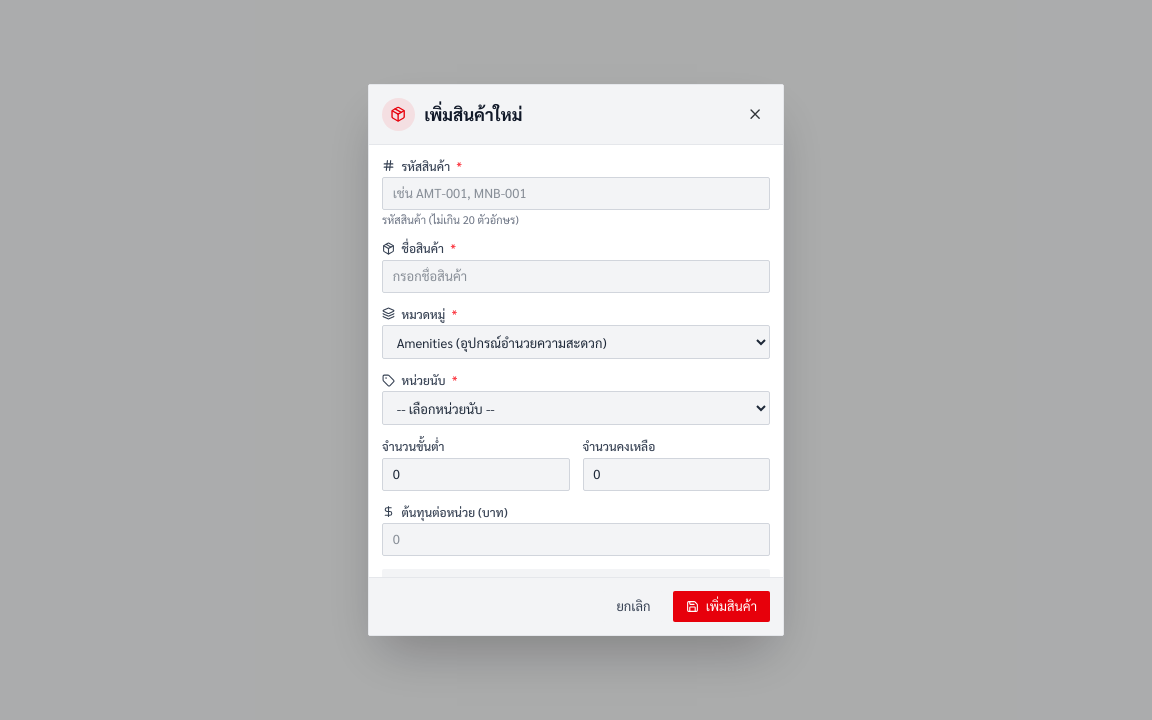
Scenario: InventoryItemForm Component › Form Validation › shows error when min stock is negative
The width and height of the screenshot is (1152, 720).
Type "TEST-001" into the field with placeholder "เช่น AMT-001, MNB-001". click: (576, 194)
box: top-left (382, 177), bottom-right (770, 210)
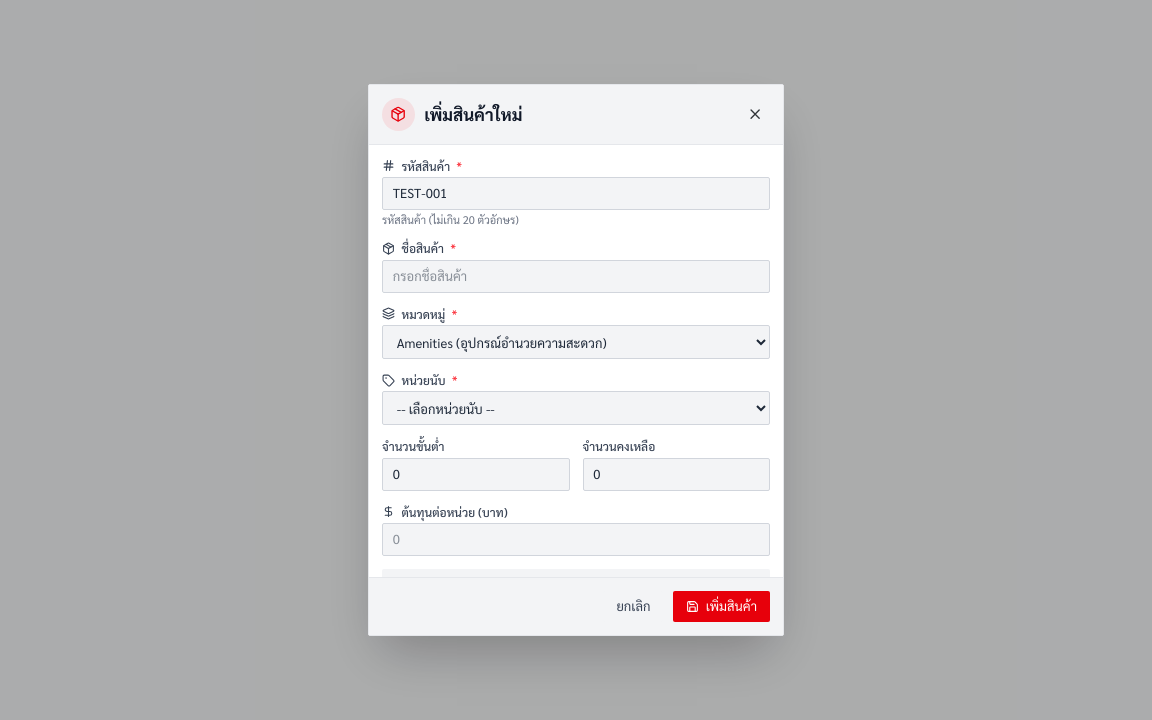
Type "Test Item" into the field with placeholder "กรอกชื่อสินค้า". click: (576, 276)
box: top-left (382, 260), bottom-right (770, 293)
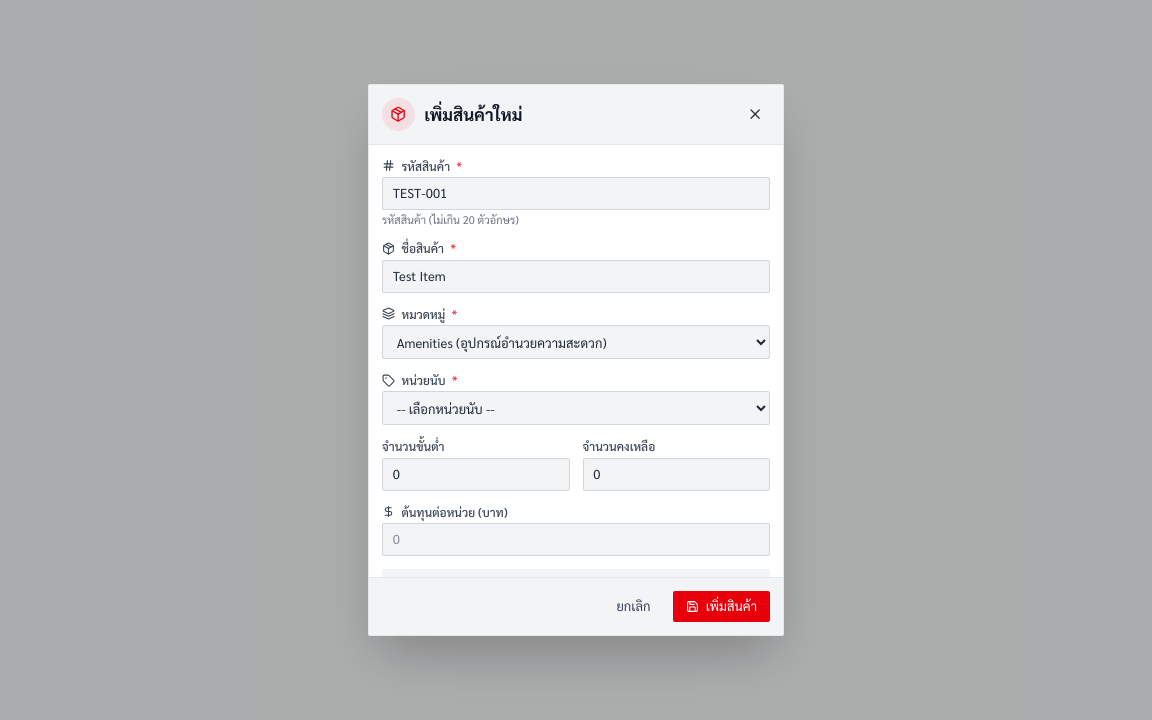
Select "ชิ้น" in the dropdown named "unit" below "หน่วยนับ". click: (576, 408)
box: top-left (382, 391), bottom-right (770, 425)
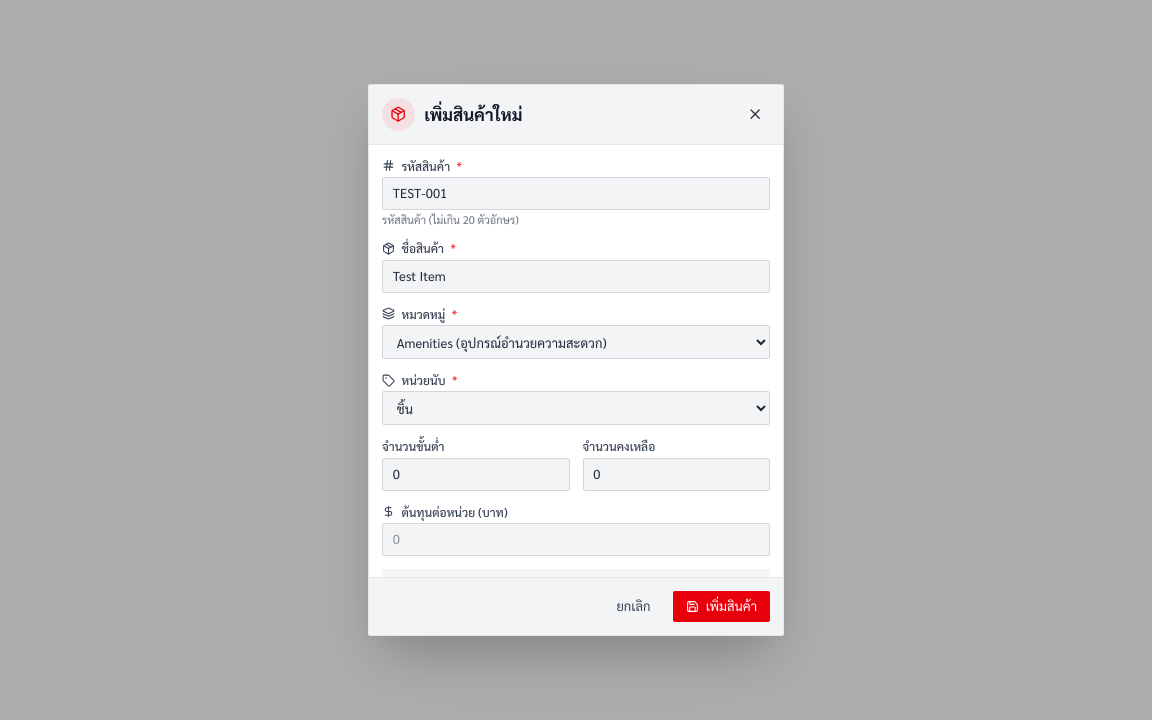
Type "-10" into the number field named "minStock" below "จำนวนขั้นต่ำ". click: (476, 474)
box: top-left (382, 458), bottom-right (570, 491)
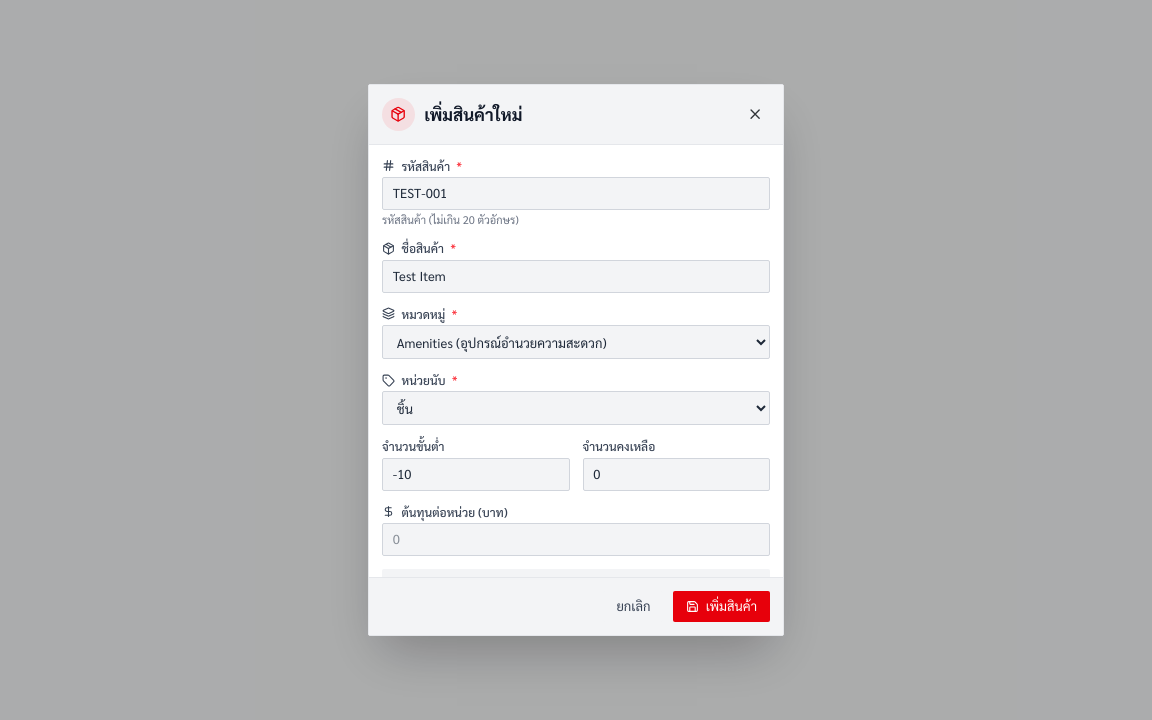
Submit the form, box top-left (369, 145), bottom-right (783, 635)
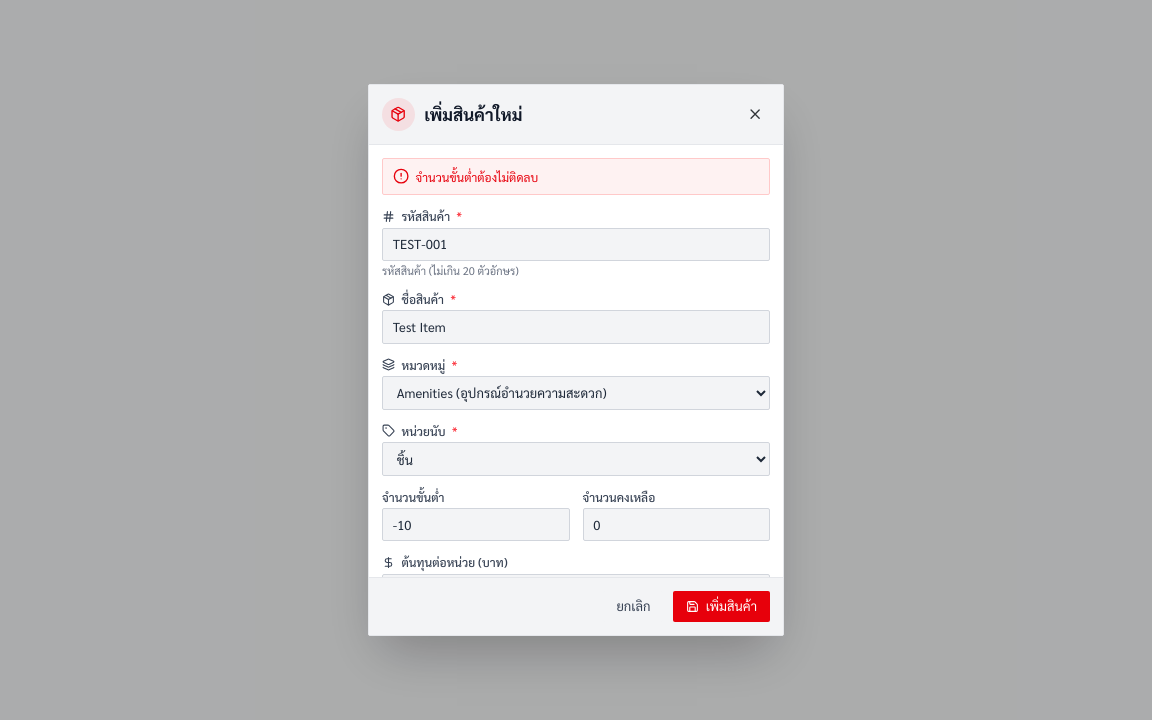
Result: the text "จำนวนขั้นต่ำต้องไม่ติดลบ" is shown at top-left (416, 168), bottom-right (538, 184)
